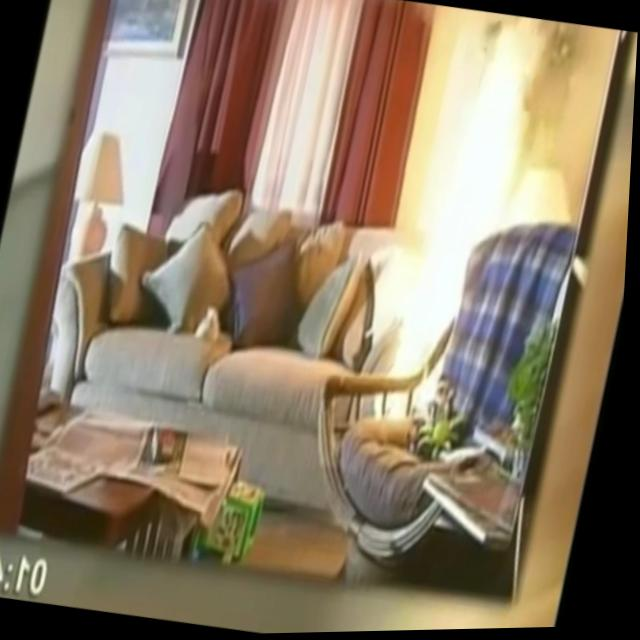fire: (375, 47, 540, 433)
